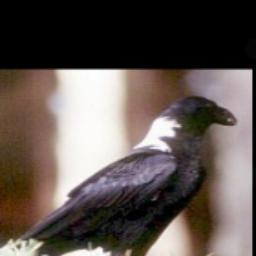Crow: (9, 89, 240, 256)
